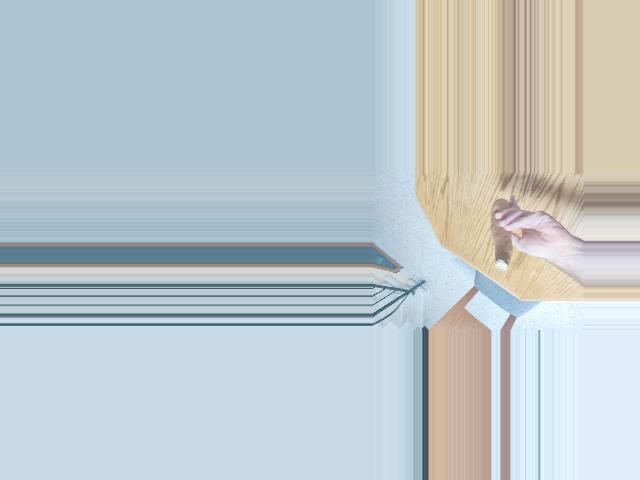sweet_potato: (483, 204, 510, 262)
